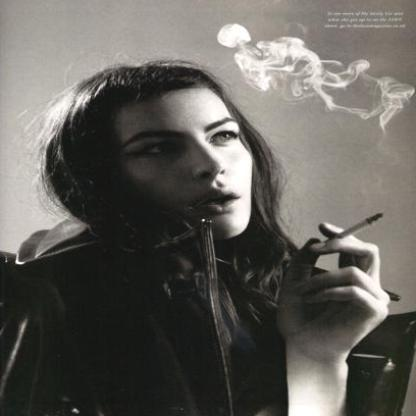cigarette: (335, 209, 386, 242)
person: (26, 65, 265, 243)
smoke: (211, 21, 414, 132)
